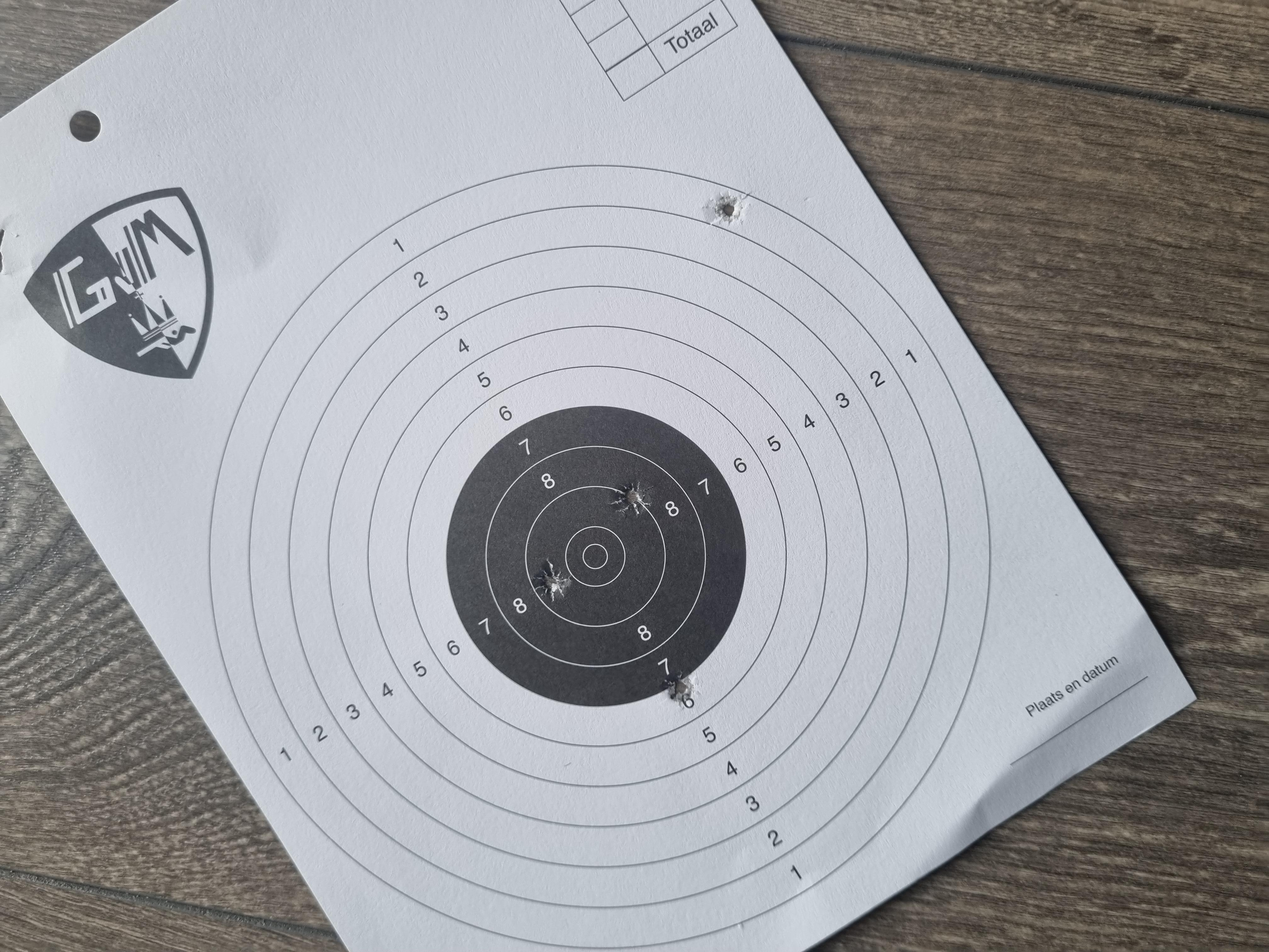hole: (467, 399, 522, 428), (969, 531, 1013, 563), (584, 457, 626, 489), (332, 498, 376, 520)
